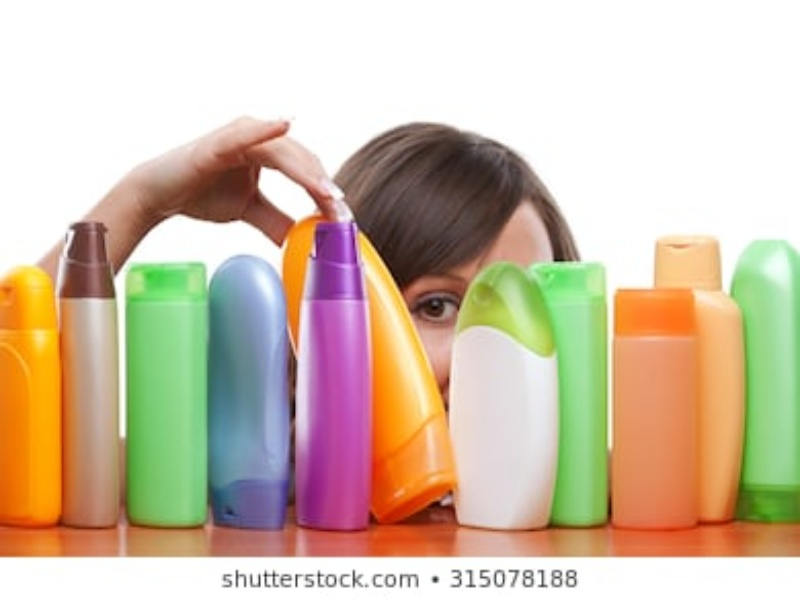shampoo-bottle: (279, 214, 458, 523), (447, 254, 559, 524), (292, 216, 377, 532), (207, 254, 298, 533), (656, 226, 739, 527), (528, 248, 615, 533), (603, 276, 699, 530), (126, 256, 214, 530), (51, 220, 125, 526), (729, 233, 800, 524), (1, 262, 64, 527)
